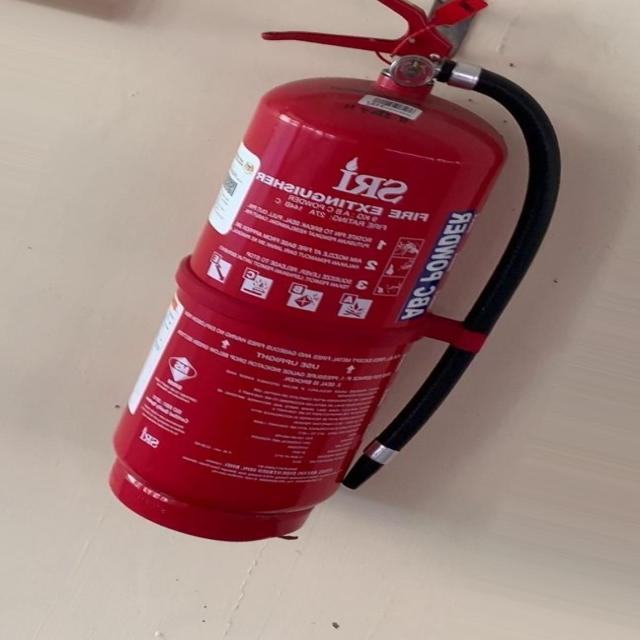fire_extinguisher: (94, 0, 574, 546)
